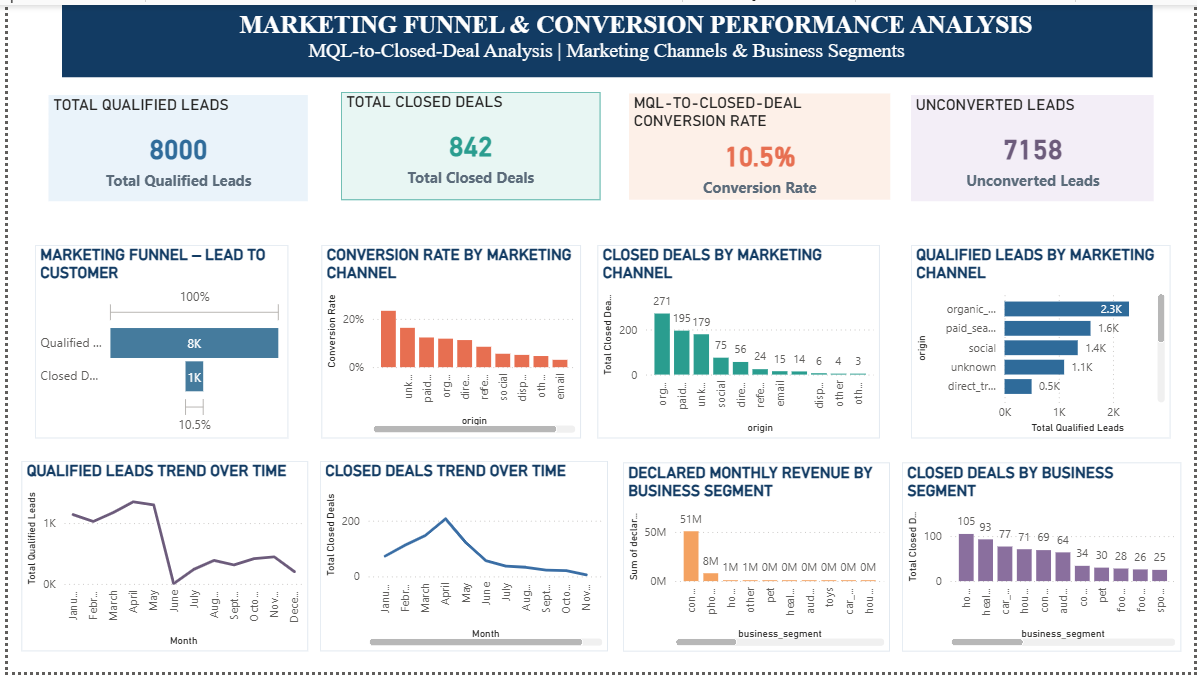

The page's visual inventory and layout, read from the dashboard file:
{"tool":"powerbi","page":{"name":"Page 1","canvas":[1280,720],"ordinal":0},"visuals":[{"type":"funnel","title":"MARKETING FUNNEL – LEAD TO CUSTOMER","fields":{"Category":["FunnelStages.Stage"],"Y":["FunnelStages.Funnel Count"]},"box":[35.9,317.5,274,153.1],"z":0},{"type":"clusteredColumnChart","title":"CONVERSION RATE BY MARKETING CHANNEL","fields":{"Category":["olist_marketing_qualified_leads_dataset.origin"],"Y":["olist_closed_deals_dataset.Conversion Rate"]},"box":[338.3,317.5,238.1,143.6],"z":1000},{"type":"clusteredColumnChart","title":"CLOSED DEALS BY MARKETING CHANNEL","fields":{"Category":["olist_marketing_qualified_leads_dataset.origin"],"Y":["olist_closed_deals_dataset.Total Closed Deals"]},"box":[610.4,311.8,247.6,145.5],"z":2000},{"type":"clusteredBarChart","title":"QUALIFIED LEADS BY MARKETING CHANNEL","fields":{"Category":["olist_marketing_qualified_leads_dataset.origin"],"Y":["olist_marketing_qualified_leads_dataset.Total Qualified Leads"]},"box":[892,302.4,279.7,155],"z":3000},{"type":"lineChart","title":"QUALIFIED LEADS TREND OVER TIME","fields":{"Category":["olist_marketing_qualified_leads_dataset.first_contact_date.Variation.Date Hierarchy.Year","olist_marketing_qualified_leads_dataset.first_contact_date.Variation.Date Hierarchy.Quarter","olist_marketing_qualified_leads_dataset.first_contact_date.Variation.Date Hierarchy.Month","olist_marketing_qualified_leads_dataset.first_contact_date.Variation.Date Hierarchy.Day"],"Y":["olist_marketing_qualified_leads_dataset.Total Qualified Leads"]},"box":[18.9,508.4,277.8,162.5],"z":4000},{"type":"lineChart","title":"CLOSED DEALS TREND OVER TIME","fields":{"Category":["olist_closed_deals_dataset.won_date.Variation.Date Hierarchy.Year","olist_closed_deals_dataset.won_date.Variation.Date Hierarchy.Quarter","olist_closed_deals_dataset.won_date.Variation.Date Hierarchy.Month","olist_closed_deals_dataset.won_date.Variation.Date Hierarchy.Day"],"Y":["olist_closed_deals_dataset.Total Closed Deals"]},"box":[296.7,517.8,279.7,162.5],"z":5000},{"type":"clusteredColumnChart","title":"CLOSED DEALS BY BUSINESS SEGMENT","fields":{"Category":["olist_closed_deals_dataset.business_segment"],"Y":["olist_closed_deals_dataset.Total Closed Deals"]},"box":[916.5,498.9,281.6,181.4],"z":6000},{"type":"clusteredColumnChart","title":"DECLARED MONTHLY REVENUE BY BUSINESS SEGMENT","fields":{"Category":["olist_closed_deals_dataset.business_segment"],"Y":["Sum(olist_closed_deals_dataset.declared_monthly_revenue)"]},"box":[604.7,493.2,287.2,177.6],"z":7000},{"type":"card","title":"TOTAL QUALIFIED LEADS","fields":{"Values":["olist_marketing_qualified_leads_dataset.Total Qualified Leads"]},"box":[58.6,153.1,279.7,149.3],"z":7001},{"type":"card","title":"TOTAL CLOSED DEALS","fields":{"Values":["olist_closed_deals_dataset.Total Closed Deals"]},"box":[360.9,162.5,279.7,149.3],"z":7002},{"type":"card","title":"MQL-TO-CLOSED-DEAL CONVERSION RATE","fields":{"Values":["olist_closed_deals_dataset.Conversion Rate"]},"box":[667.1,153.1,281.6,149.3],"z":7003},{"type":"card","title":"UNCONVERTED LEADS","fields":{"Values":["olist_marketing_qualified_leads_dataset.Unconverted Leads"]},"box":[961.9,136.1,262.7,149.3],"z":7004},{"type":"textbox","box":[58.6,0,1113.1,105.8],"z":7005}]}

Visuals, with their boxes in screenshot pixels (x1, y1, x2, y2), scaled from the page's 1280x720 canvas onto the 1197x675 screenshot:
"MARKETING FUNNEL – LEAD TO CUSTOMER" funnel: [left=34, top=298, right=290, bottom=441]
"CONVERSION RATE BY MARKETING CHANNEL" clusteredColumnChart: [left=316, top=298, right=539, bottom=432]
"CLOSED DEALS BY MARKETING CHANNEL" clusteredColumnChart: [left=571, top=292, right=802, bottom=429]
"QUALIFIED LEADS BY MARKETING CHANNEL" clusteredBarChart: [left=834, top=284, right=1096, bottom=429]
"QUALIFIED LEADS TREND OVER TIME" lineChart: [left=18, top=477, right=277, bottom=629]
"CLOSED DEALS TREND OVER TIME" lineChart: [left=277, top=485, right=539, bottom=638]
"CLOSED DEALS BY BUSINESS SEGMENT" clusteredColumnChart: [left=857, top=468, right=1120, bottom=638]
"DECLARED MONTHLY REVENUE BY BUSINESS SEGMENT" clusteredColumnChart: [left=565, top=462, right=834, bottom=629]
"TOTAL QUALIFIED LEADS" card: [left=55, top=144, right=316, bottom=284]
"TOTAL CLOSED DEALS" card: [left=337, top=152, right=599, bottom=292]
"MQL-TO-CLOSED-DEAL CONVERSION RATE" card: [left=624, top=144, right=887, bottom=284]
"UNCONVERTED LEADS" card: [left=900, top=128, right=1145, bottom=268]
textbox: [left=55, top=0, right=1096, bottom=99]
